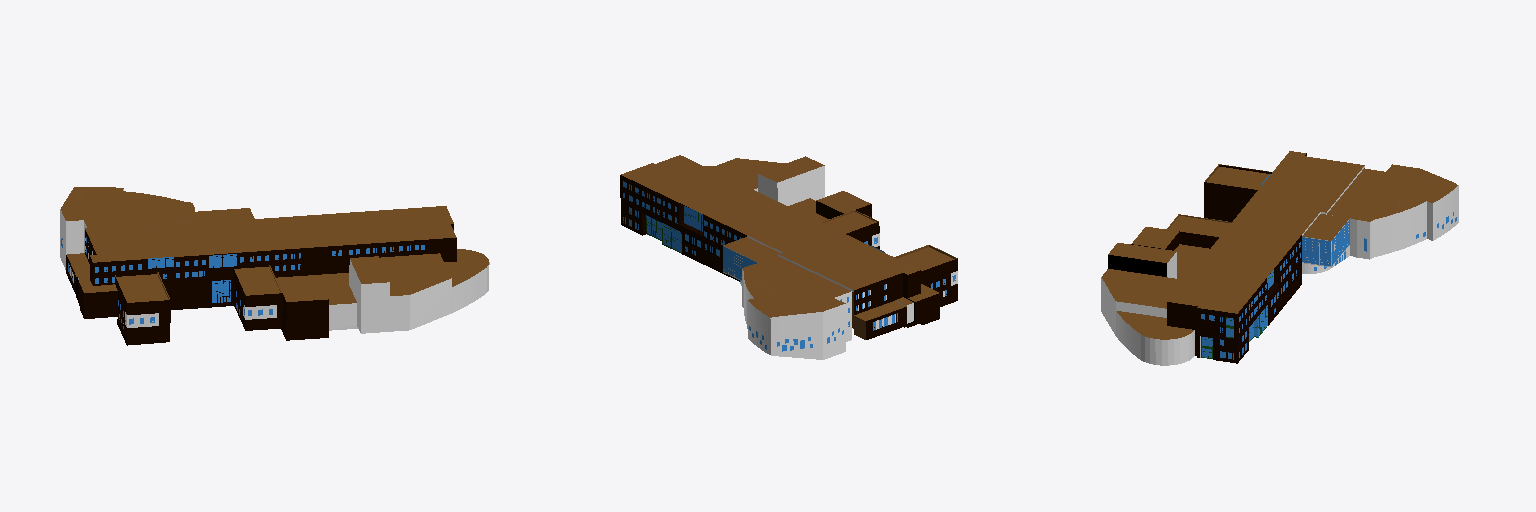
Rendered from Pahb.obj.
3 renders of one model, left to right at view 1: azimuth 30°, elevation 25°; view 2: azimuth 150°, elevation 25°; view 3: azimuth 270°, elevation 25°, orthographic.
Visible parts, largest first — view 1: SM_Pahb_Bldg01, SM_Pahb_Bldg02, SM_Pahb_Wndws; view 2: SM_Pahb_Bldg01, SM_Pahb_Bldg02, SM_Pahb_Wndws; view 3: SM_Pahb_Bldg01, SM_Pahb_Bldg02, SM_Pahb_Wndws.
Boxes of the visible parts, <box> form: SM_Pahb_Bldg01: <box>66,206,489,345</box>; SM_Pahb_Bldg02: <box>60,187,197,269</box>; SM_Pahb_Wndws: <box>61,237,424,328</box>; SM_Pahb_Bldg01: <box>620,155,957,339</box>; SM_Pahb_Bldg02: <box>740,256,851,359</box>; SM_Pahb_Wndws: <box>623,181,957,351</box>; SM_Pahb_Bldg01: <box>1101,151,1364,365</box>; SM_Pahb_Bldg02: <box>1302,164,1458,273</box>; SM_Pahb_Wndws: <box>1201,174,1456,359</box>.
Bounding box in the file's own units: 13138 × 2056 × 11812.